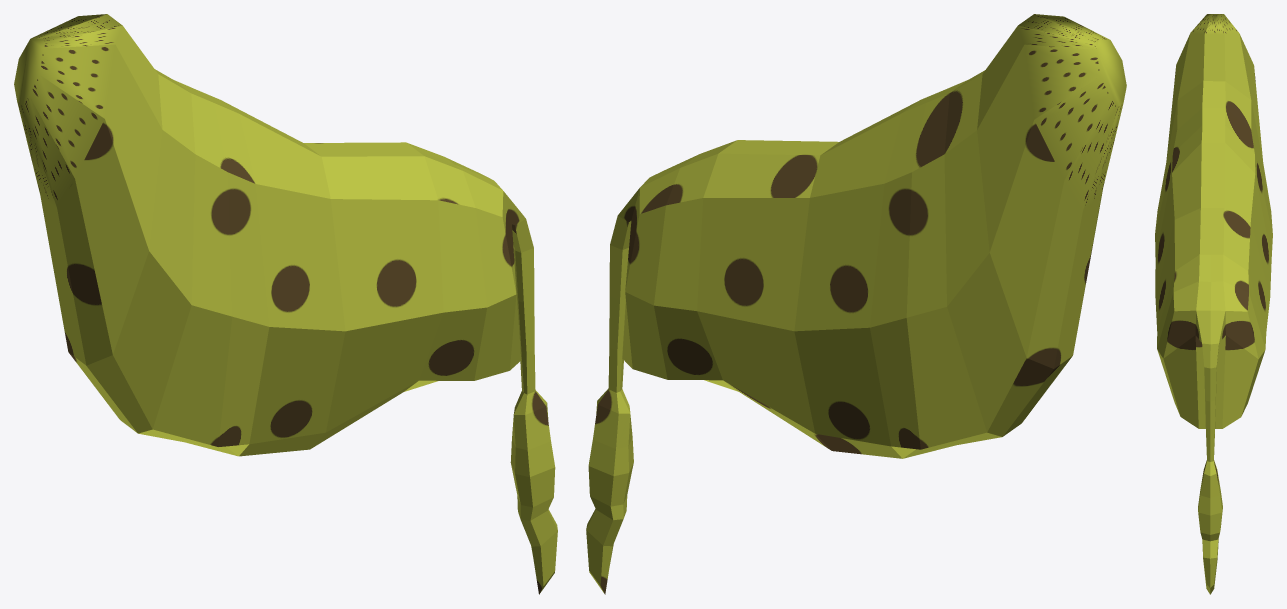
The model's file is Torso.obj.
The picture shows the model from 3 angles, left to right: view 1: azimuth 30°, elevation 25°; view 2: azimuth 150°, elevation 25°; view 3: azimuth 270°, elevation 25°; orthographic projection. The views are drawn at different scales.
Visible parts, largest first — view 1: polySurface20 polySurface18; view 2: polySurface20 polySurface18; view 3: polySurface20 polySurface18.
Boxes of the visible parts, <box> form: polySurface20 polySurface18: <box>14,14,557,594</box>; polySurface20 polySurface18: <box>586,14,1126,594</box>; polySurface20 polySurface18: <box>1155,14,1272,594</box>.
Bounding box in the file's own units: 2.25 × 2.73 × 0.679.
Materials: 1 (1 with a texture image).
